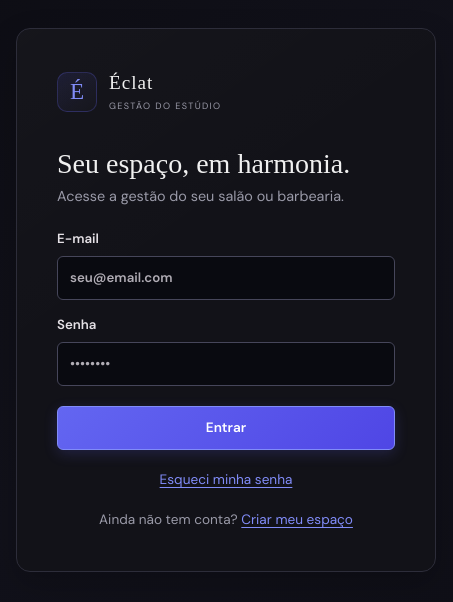
Test: LoginPage › exibe erro de validação para e-mail inválido
In the field labelled "E-mail": (226, 278) [57,256,395,300], type "email-invalido"
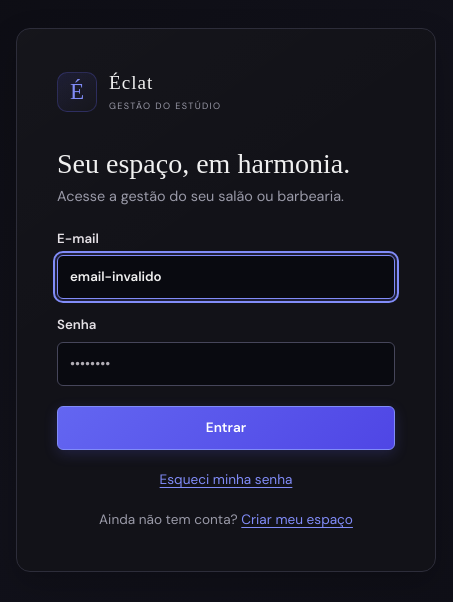
In the password field labelled "Senha": (226, 364) [57,342,395,386], type "senha123"
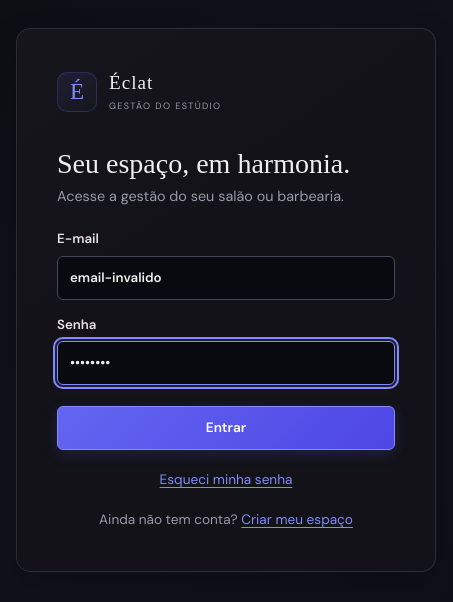
Click the button "Entrar": (226, 428) [57,406,395,450]
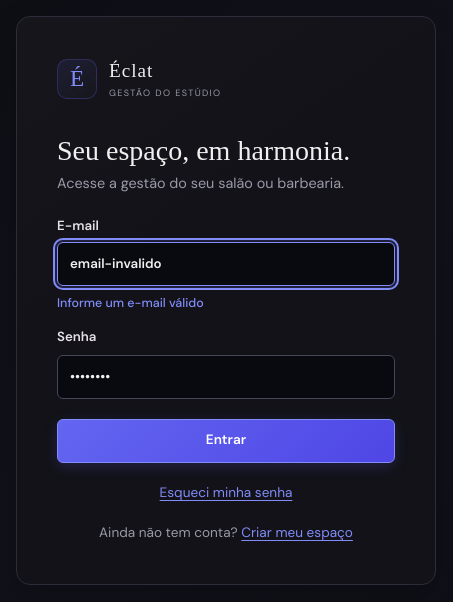
Now the text "Informe um e-mail válido" is shown, box [57,295,204,311]
